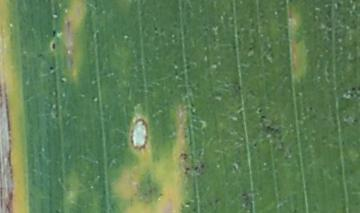tarspot: (48, 42, 60, 51), (49, 28, 59, 38), (48, 65, 57, 73)
